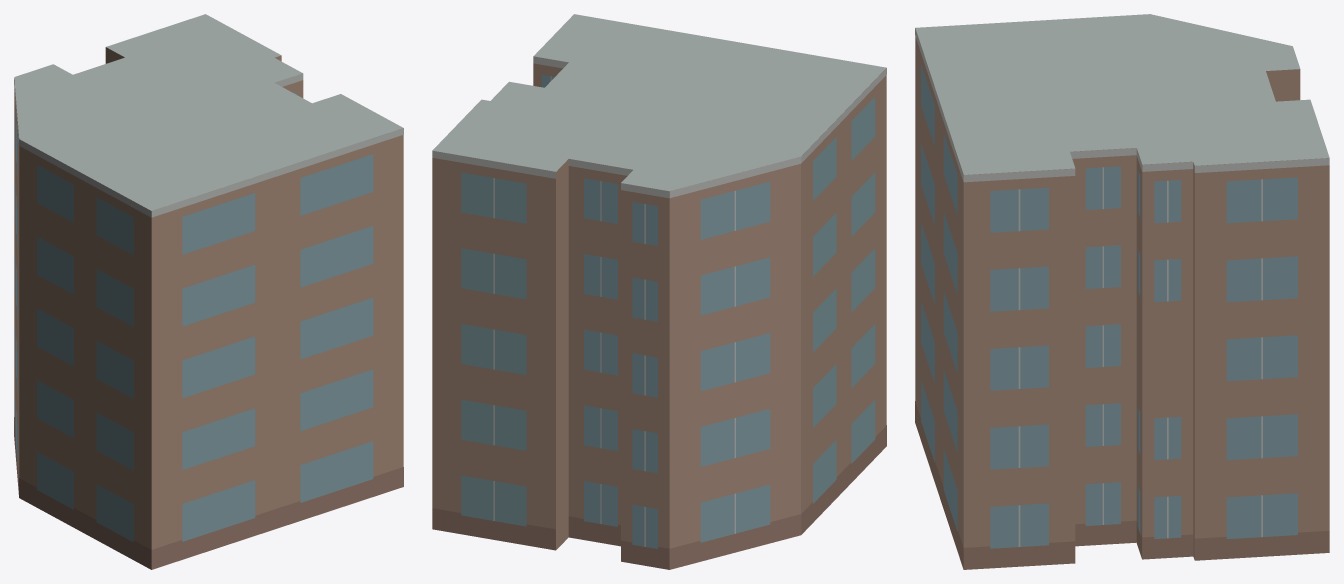
Rendered from survey-upis-32725728.glb.
3 views of the same model, side by side, from view 1: azimuth 30°, elevation 25°; view 2: azimuth 150°, elevation 25°; view 3: azimuth 270°, elevation 25° (orthographic). The views are drawn at different scales.
Visible parts, largest first — view 1: survey-upis-32725728.tmp; view 2: survey-upis-32725728.tmp; view 3: survey-upis-32725728.tmp.
Boxes of the visible parts, x1,y1,x2,y2 form: survey-upis-32725728.tmp: (14,14,403,569); survey-upis-32725728.tmp: (432,14,886,569); survey-upis-32725728.tmp: (915,14,1329,569).
Bounding box in the file's own units: 11.46 × 13.1 × 12.47.
